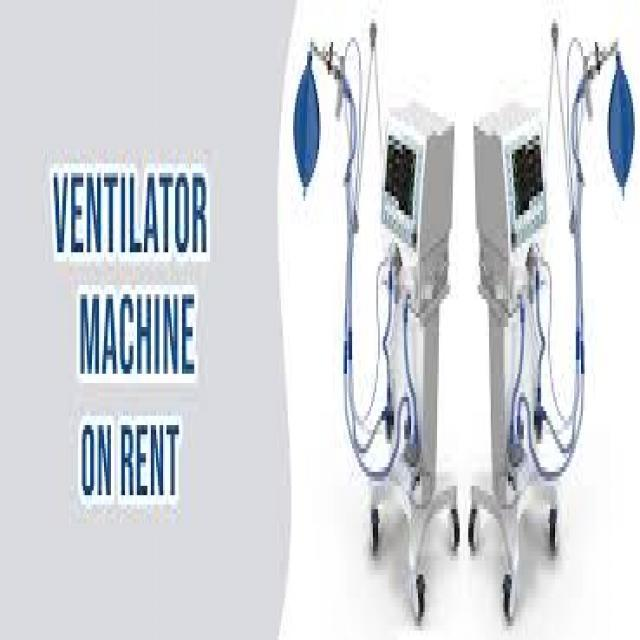ventilator: (288, 56, 640, 601)
